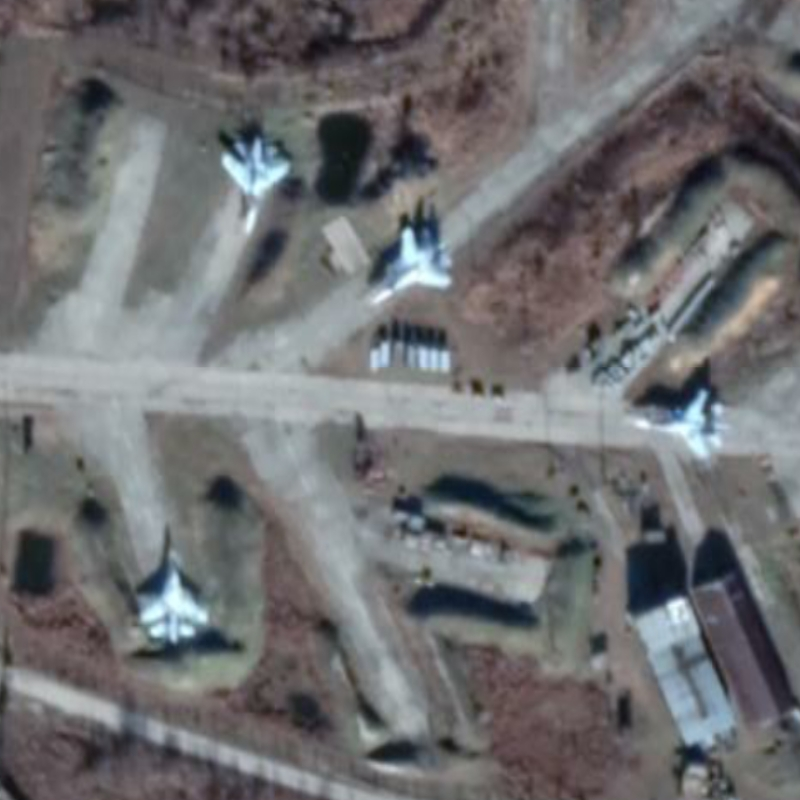A1: (134, 535, 212, 647), (218, 133, 293, 239), (630, 386, 731, 464), (369, 222, 454, 306)
